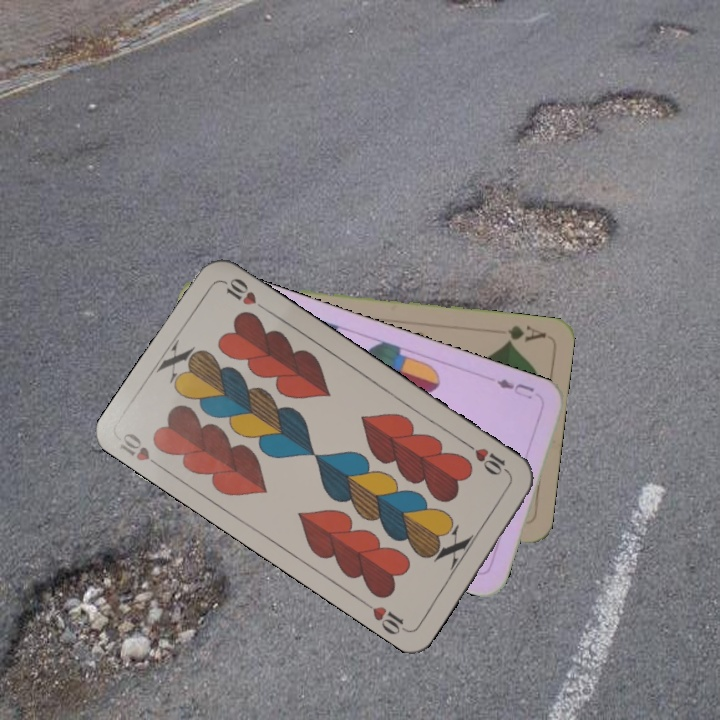EU: (493, 374, 537, 402)
GA: (501, 321, 549, 347)
H10: (115, 428, 167, 473), (462, 438, 513, 478)
